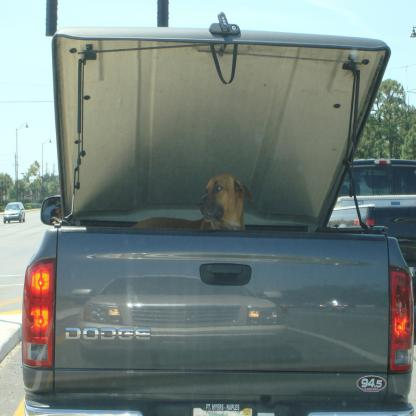Car: (21, 11, 415, 415), (4, 201, 26, 224)
Truck: (22, 12, 415, 415)
